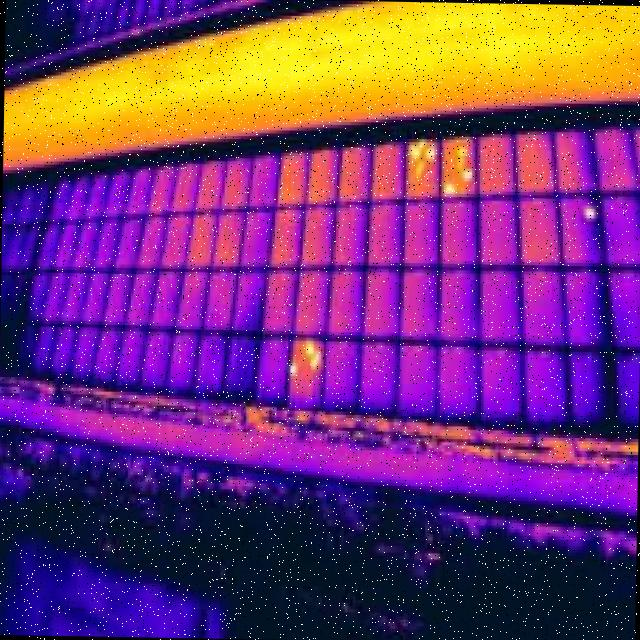Hotspot: (452, 140, 470, 172), (461, 162, 479, 185), (411, 157, 429, 180), (413, 132, 431, 152), (308, 348, 322, 372), (407, 140, 422, 162), (424, 144, 441, 162), (286, 360, 300, 379), (304, 334, 316, 356), (583, 202, 598, 219), (441, 182, 456, 196)
